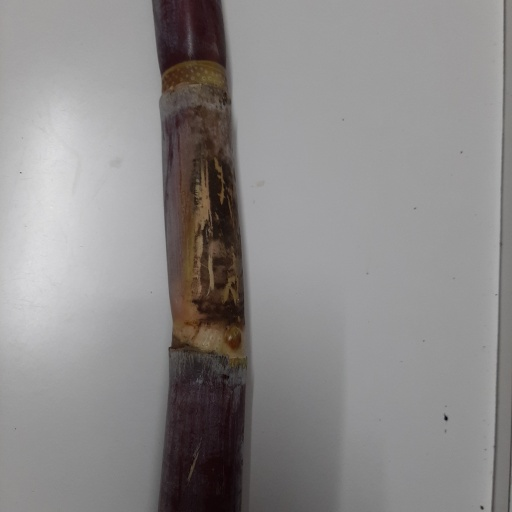Bud: (222, 325, 243, 351)
